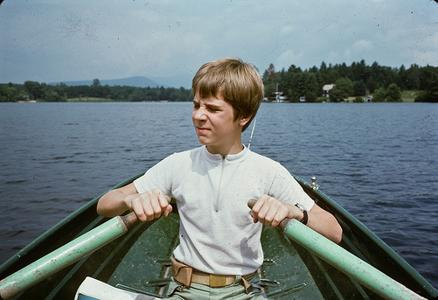person: (97, 56, 345, 300)
